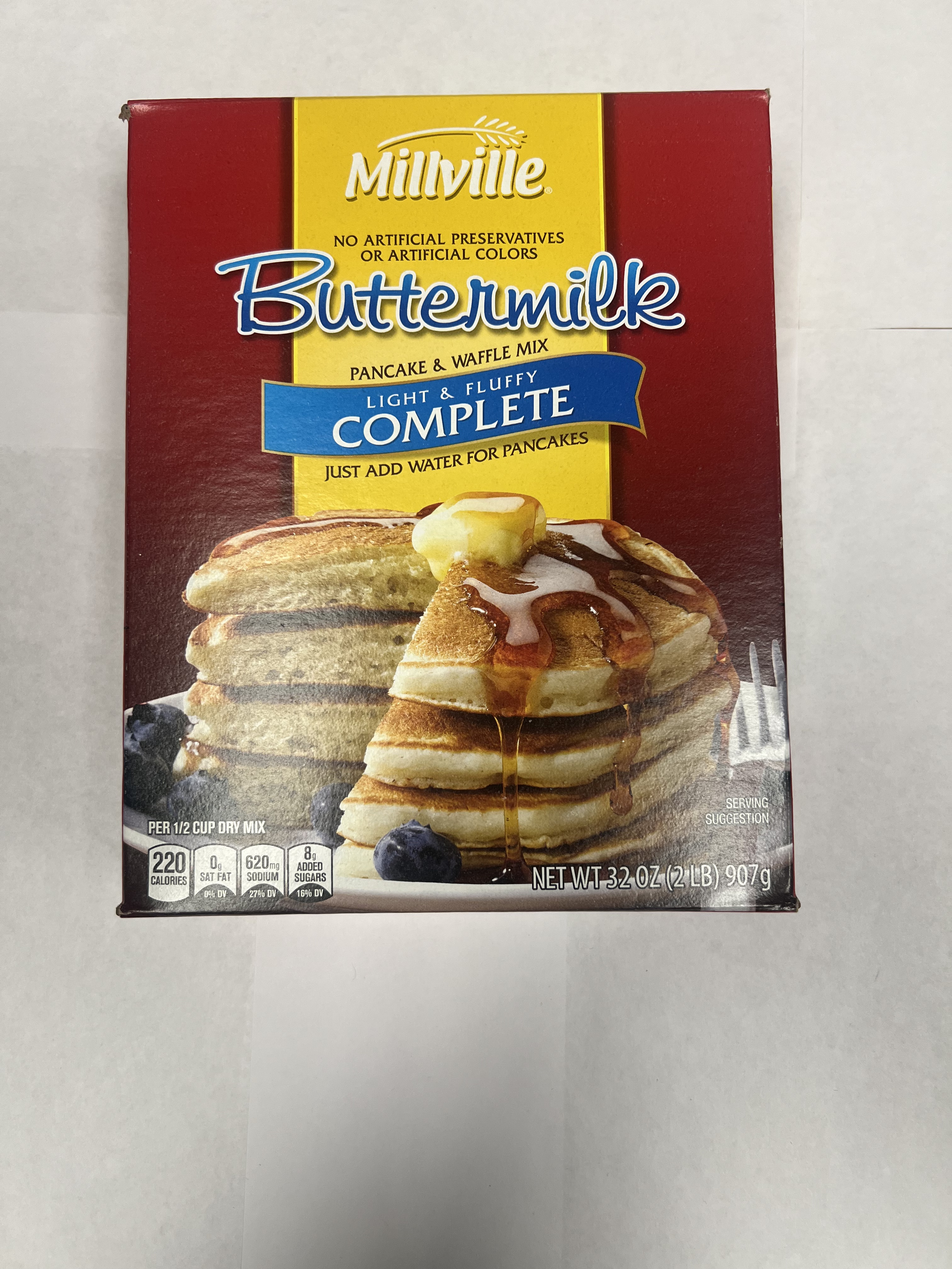packaged: (107, 85, 805, 924)
